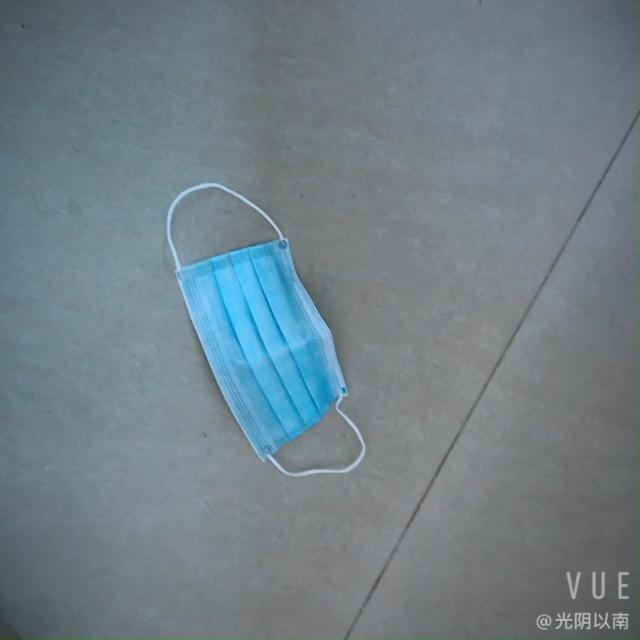face mask: (180, 220, 358, 473)
